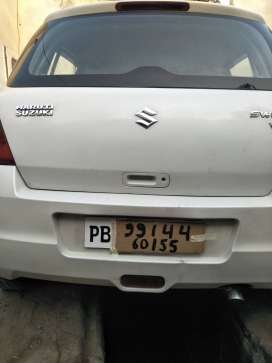nameplate: (85, 219, 207, 254)
